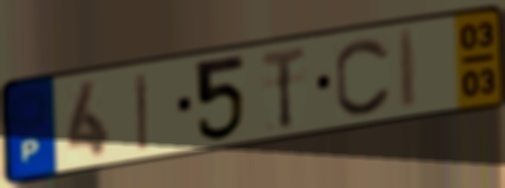4: (64, 76, 113, 162)
5: (190, 50, 250, 144)
C: (332, 35, 395, 118)
I: (396, 25, 420, 112), (132, 70, 151, 154)
T: (259, 42, 309, 133)
